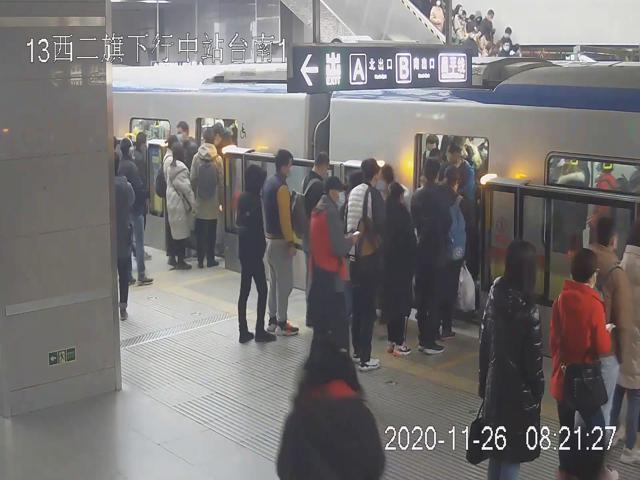person: (478, 240, 546, 480), (551, 248, 619, 480), (309, 175, 356, 368), (345, 158, 386, 372), (411, 157, 452, 355), (236, 164, 277, 344), (263, 148, 301, 336), (190, 126, 225, 268), (164, 144, 196, 271)
